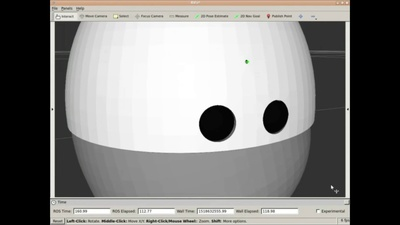mira_robot: (65, 22, 316, 195)
